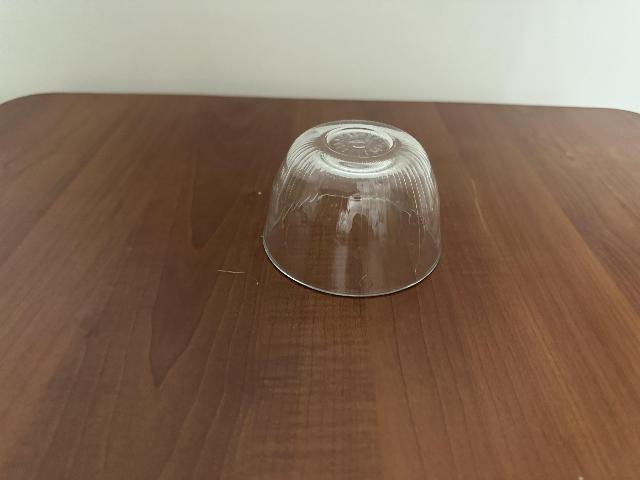Cam: (262, 113, 444, 297)
